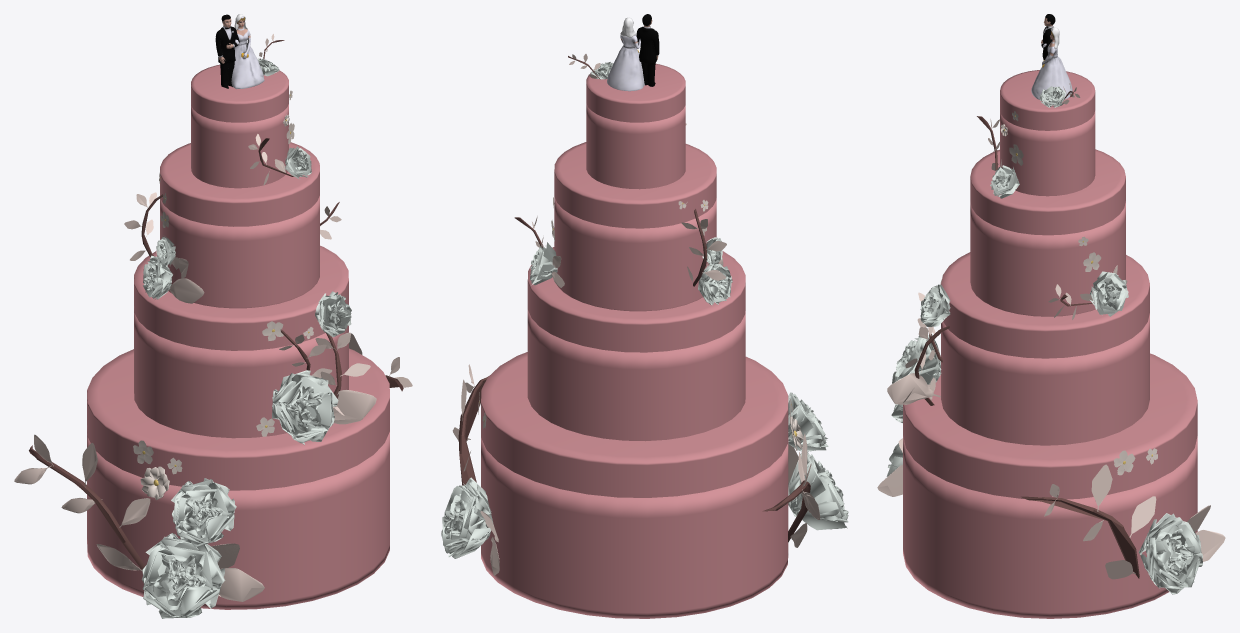
The model's file is 4-tier-blush-roses-bridegroom.glb.
The picture shows the model from 3 angles, left to right: view 1: azimuth 30°, elevation 25°; view 2: azimuth 150°, elevation 25°; view 3: azimuth 270°, elevation 25°; orthographic projection.
Parts seen in each view (by area): view 1: 3.001, 3, 2, 1, grid.013, Plane.024, grid.016, grid.012, 13501_Cake_Topper_Bride_Groom_v1_L1.001, grid.015, Plane.009, Plane.022 (+7 smaller); view 2: 3.001, 3, 2, 1, grid.020, 13501_Cake_Topper_Bride_Groom_v1_L1.001, grid.013, Plane.008, Plane.024, grid.012, grid.017, Plane.023 (+1 smaller); view 3: 3.001, 3, 2, 1, grid.020, Plane.008, 13501_Cake_Topper_Bride_Groom_v1_L1.001, grid.016, grid.019, Plane.009, grid.015, grid.021 (+3 smaller).
Part boxes in pixels (x1,y1,x2,y2): 3.001: [87, 348, 389, 609]; 3: [134, 245, 348, 438]; 2: [160, 142, 319, 308]; 1: [191, 64, 288, 188]; grid.013: [142, 533, 225, 618]; Plane.024: [14, 434, 150, 570]; grid.016: [272, 370, 338, 444]; grid.012: [171, 478, 236, 547]; 13501_Cake_Topper_Bride_Groom_v1_L1.001: [215, 14, 264, 88]; grid.015: [315, 291, 351, 337]; Plane.009: [333, 390, 376, 424]; Plane.022: [218, 568, 264, 601]; 3.001: [481, 352, 788, 618]; 3: [527, 247, 745, 441]; 2: [554, 142, 716, 311]; 1: [586, 63, 685, 189]; grid.020: [441, 477, 493, 558]; 13501_Cake_Topper_Bride_Groom_v1_L1.001: [607, 14, 659, 91]; grid.013: [788, 452, 848, 530]; Plane.008: [452, 364, 488, 485]; Plane.024: [762, 433, 820, 547]; grid.012: [788, 392, 828, 451]; grid.017: [698, 263, 732, 305]; Plane.023: [681, 209, 726, 286]; 3.001: [903, 353, 1197, 618]; 3: [941, 252, 1149, 445]; 2: [970, 149, 1125, 316]; 1: [1000, 70, 1095, 196]; grid.020: [1138, 513, 1202, 594]; Plane.008: [1021, 464, 1156, 579]; 13501_Cake_Topper_Bride_Groom_v1_L1.001: [1031, 14, 1072, 99]; grid.016: [892, 331, 941, 384]; grid.019: [1089, 271, 1128, 316]; Plane.009: [887, 373, 940, 404]; grid.015: [920, 284, 950, 326]; grid.021: [990, 165, 1019, 198].
Size of the model in its own units: 6.25 by 8.54 by 5.05.
Materials: 7 (1 with a texture image).
